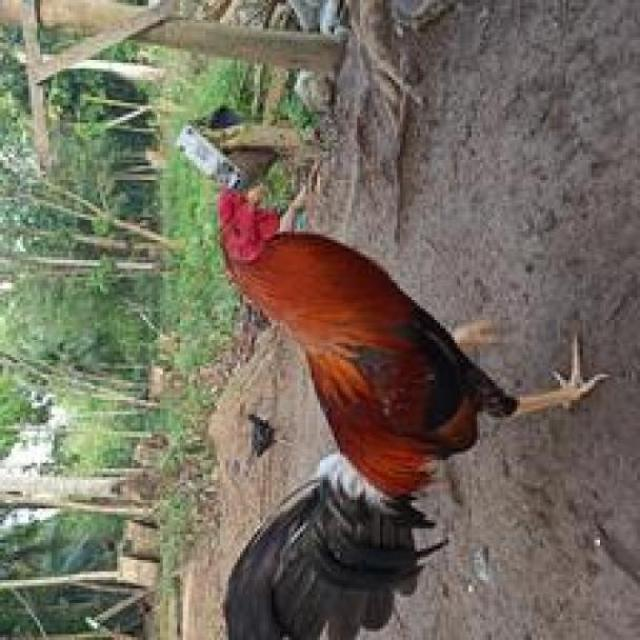Chicken: (153, 152, 611, 640)
